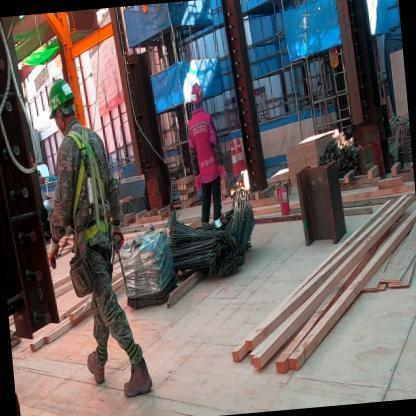Helmet: (43, 83, 78, 116)
safety-shoe: (115, 360, 163, 407), (80, 351, 109, 397)
